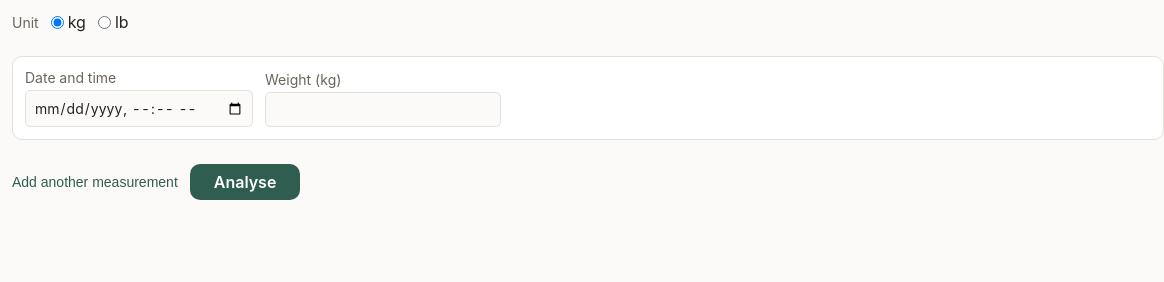
Test: MeasurementForm › rejects a non-positive weight
Type "2026-08-21T07:30" into the field labelled "Date and time".
click(139, 108); type("2026-08-21T07:30")  # box x1=25 y1=90 x2=253 y2=127
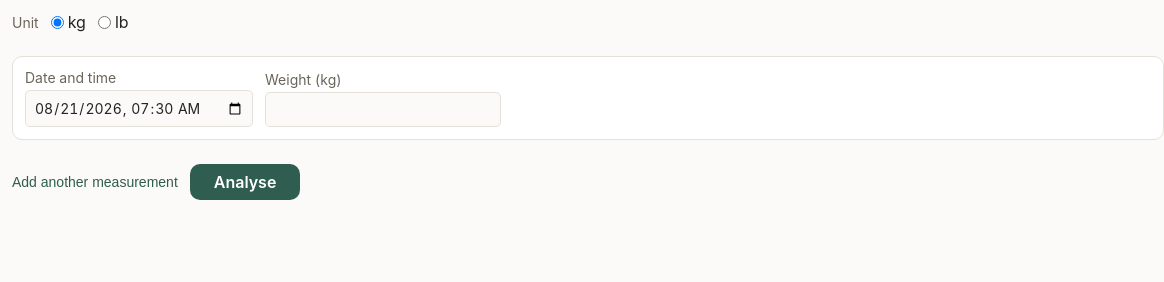
Type "0" into the number field labelled "Weight (kg)".
click(383, 110); type("0")  # box x1=265 y1=92 x2=501 y2=127
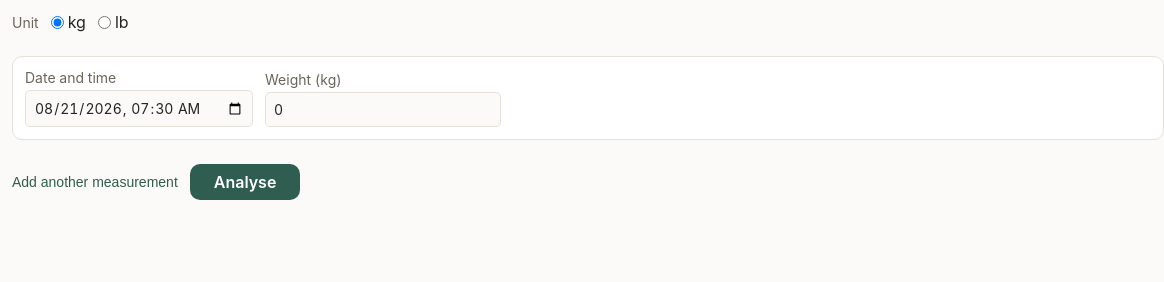
Click the button "Analyse".
click(245, 182)  # box x1=190 y1=164 x2=300 y2=200
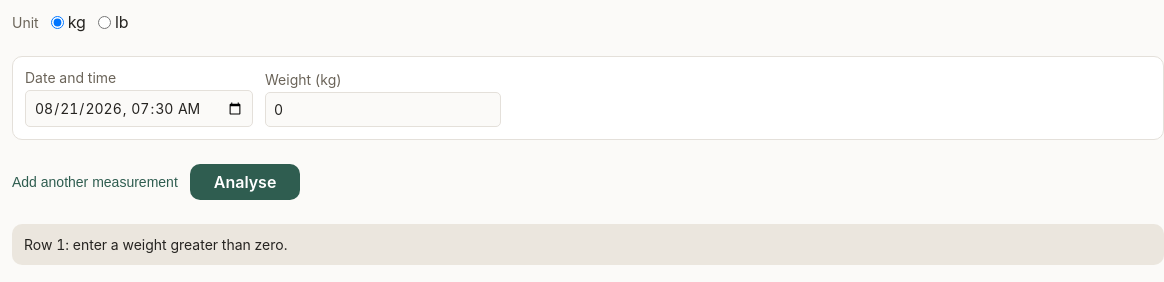
Expected: the message shows "greater than zero", x1=24 y1=236 x2=288 y2=253
